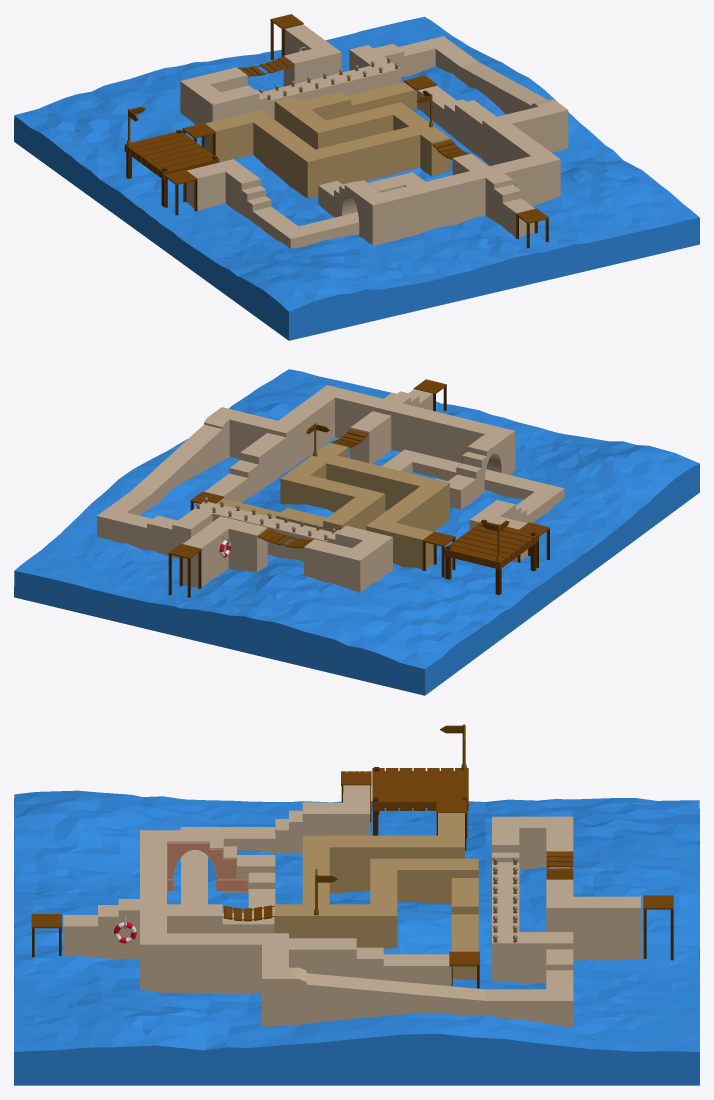
3 renders of one model, top to bottom at view 1: azimuth 30°, elevation 25°; view 2: azimuth 150°, elevation 25°; view 3: azimuth 270°, elevation 25°, orthographic. The views are drawn at different scales.
Parts seen in each view (by area): view 1: Eau_1, Labyrinthe_0, Cube.003_5, Cube.002_4, Cube.001_3; view 2: Eau_1, Labyrinthe_0, Cube.003_5, Cube.002_4, Cube.001_3; view 3: Eau_1, Labyrinthe_0, Cube.003_5, Cube.002_4, Cube.001_3, Circle_8, Cube_2.
Part boxes in pixels (left/top/right/bottom): Eau_1: left=14, top=16, right=699, bottom=340; Labyrinthe_0: left=180, top=24, right=568, bottom=248; Cube.003_5: left=124, top=129, right=219, bottom=206; Cube.002_4: left=164, top=14, right=548, bottom=247; Cube.001_3: left=237, top=56, right=293, bottom=76; Eau_1: left=14, top=369, right=699, bottom=695; Labyrinthe_0: left=97, top=385, right=564, bottom=592; Cube.003_5: left=444, top=519, right=538, bottom=595; Cube.002_4: left=168, top=379, right=550, bottom=597; Cube.001_3: left=257, top=528, right=313, bottom=548; Eau_1: left=14, top=790, right=699, bottom=1085; Labyrinthe_0: left=63, top=785, right=640, bottom=1027; Cube.003_5: left=372, top=767, right=468, bottom=838; Cube.002_4: left=31, top=771, right=673, bottom=988; Cube.001_3: left=546, top=852, right=573, bottom=879; Circle_8: left=493, top=857, right=517, bottom=942; Cube_2: left=223, top=905, right=274, bottom=921.
Size of the model in its own units: 43.72 by 10.03 by 50.66.
